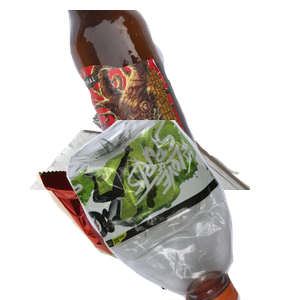glass: (65, 10, 300, 190)
paper: (10, 10, 250, 190)
plastic: (64, 120, 300, 300)
trash: (34, 136, 253, 300)
